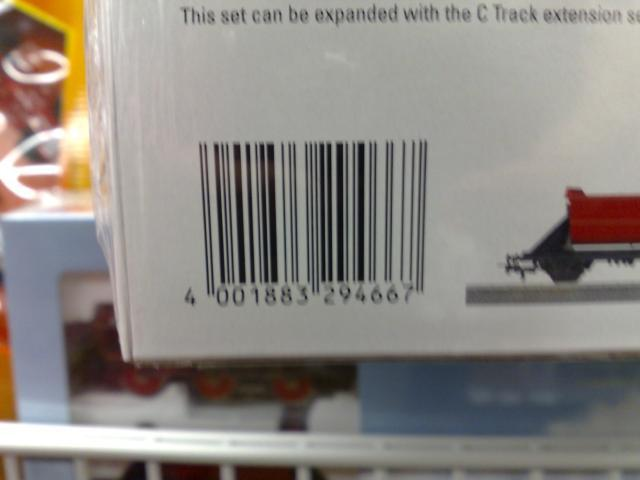Barcode: (167, 118, 453, 328)
